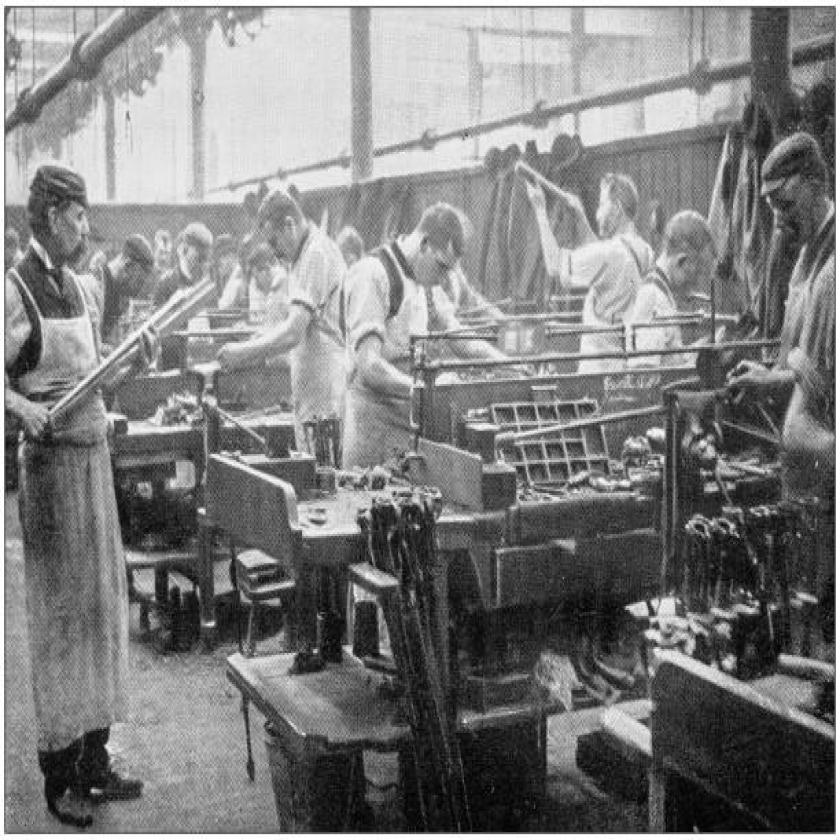Sin_casco: (398, 190, 470, 304), (652, 200, 724, 300), (586, 154, 646, 241), (255, 181, 311, 274)
